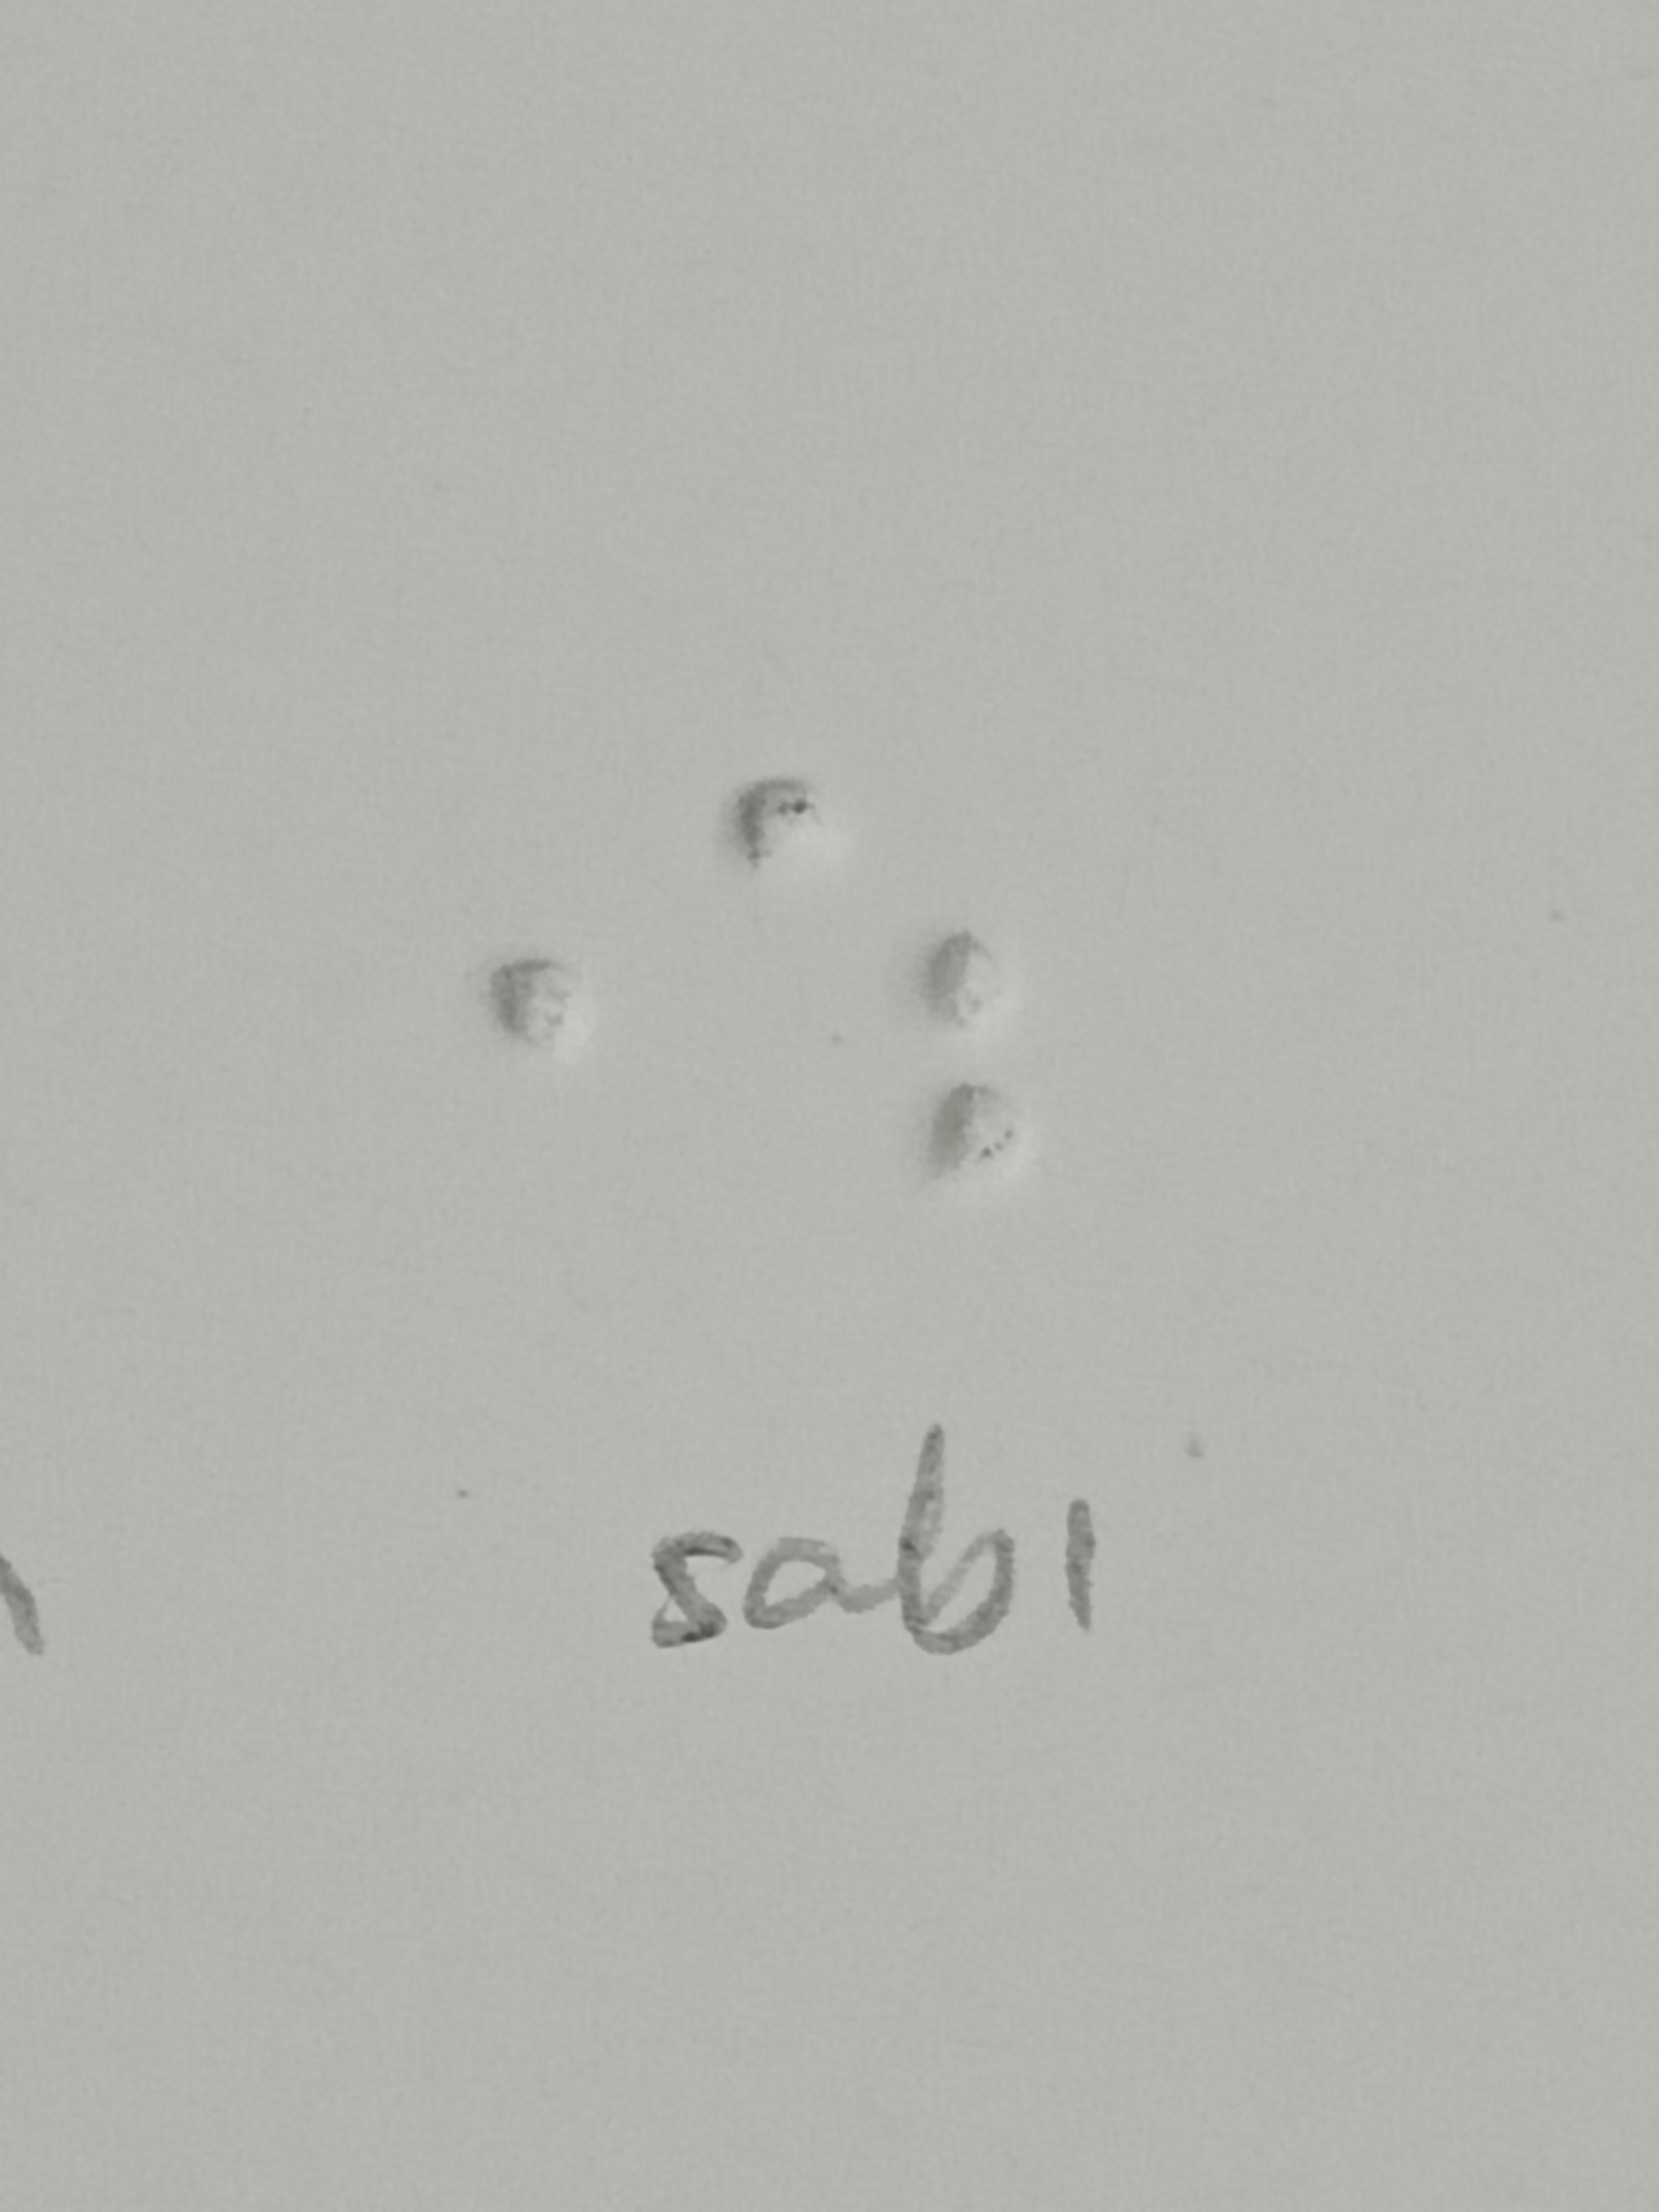dot_5: (289, 752, 580, 1184)
two_cell_non_alphabet_sabi: (732, 752, 1023, 1184)
